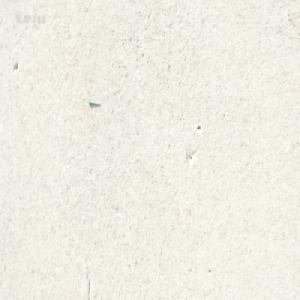Nail: (87, 97, 101, 105)
